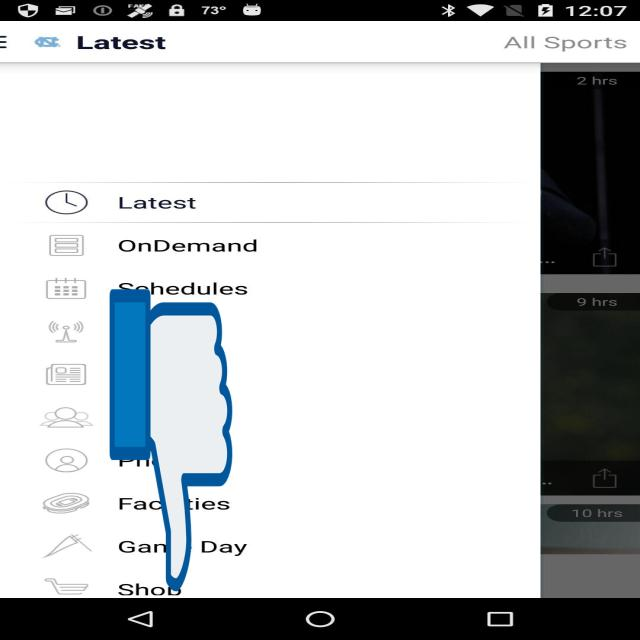obstruction: (110, 283, 232, 598)
